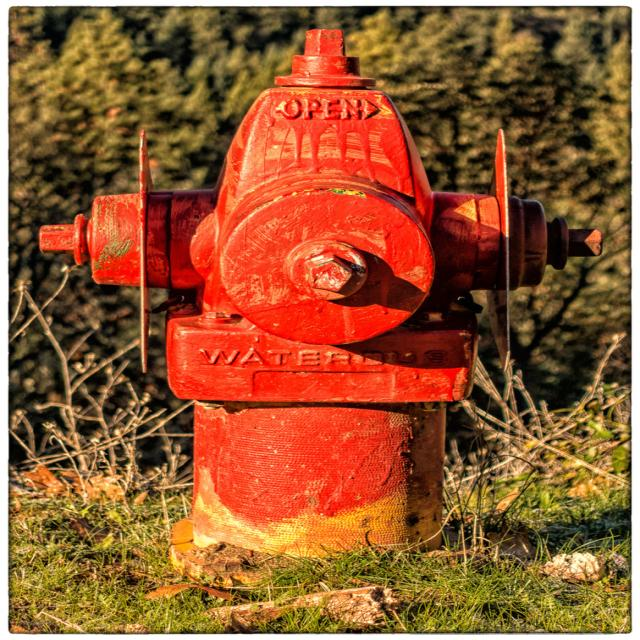fire_hydrant: (39, 25, 606, 568)
